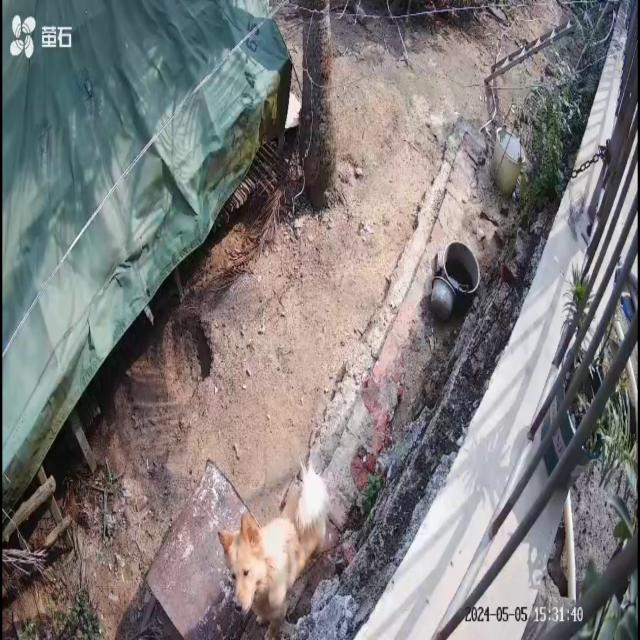dog: (219, 457, 332, 640)
